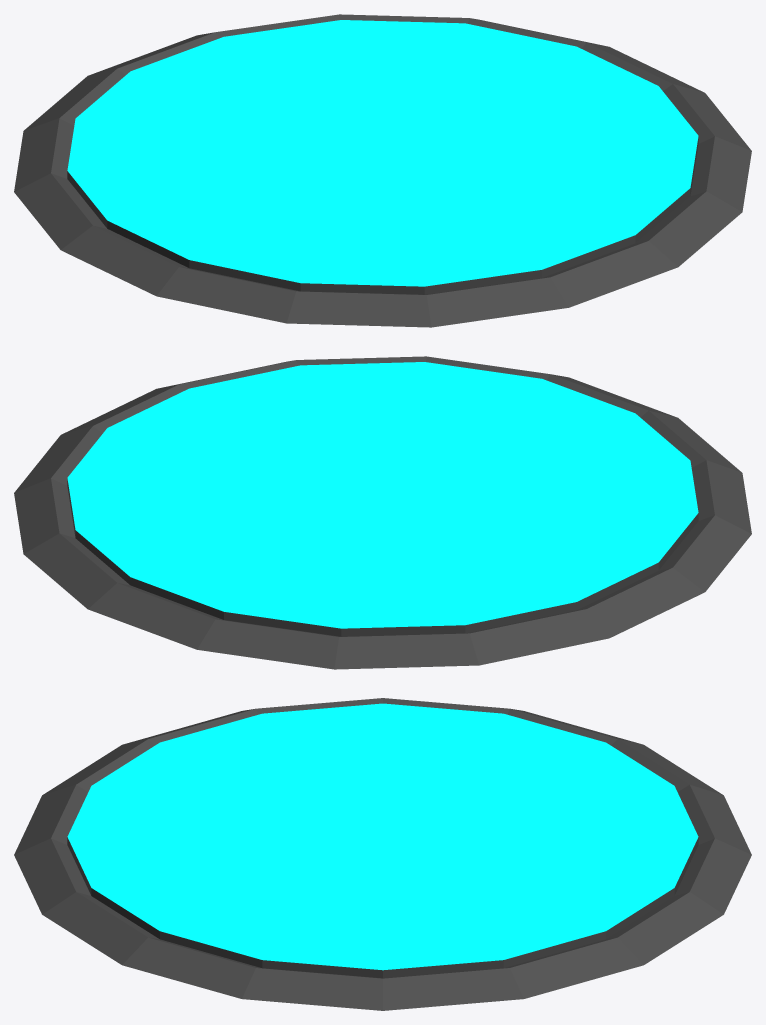
Rendered from Platform.fbx.
3 views of the same model, one above another, from view 1: azimuth 30°, elevation 25°; view 2: azimuth 150°, elevation 25°; view 3: azimuth 270°, elevation 25° (orthographic).
Parts seen in each view (by area): view 1: Cylinder; view 2: Cylinder; view 3: Cylinder.
Part boxes in pixels (x1,y1,x2,y2): Cylinder: [14, 14, 751, 327]; Cylinder: [14, 356, 751, 669]; Cylinder: [14, 698, 751, 1010].
Size of the model in its own units: 200 by 5.43 by 200.
